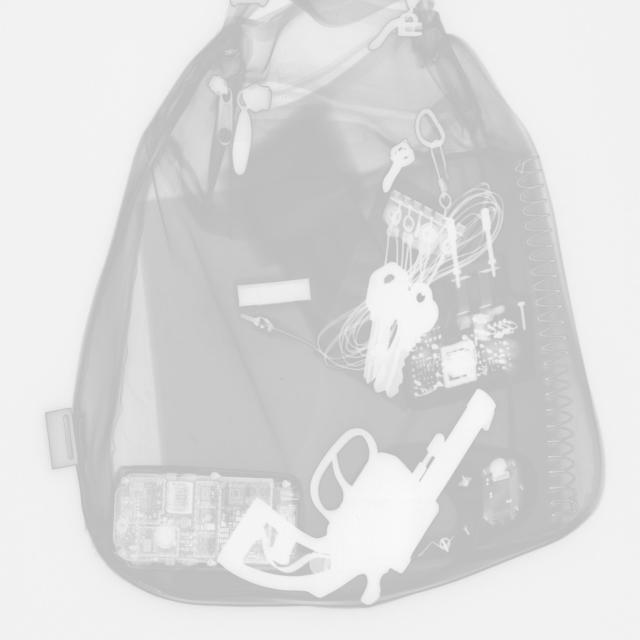grenade: (105, 462, 301, 578)
